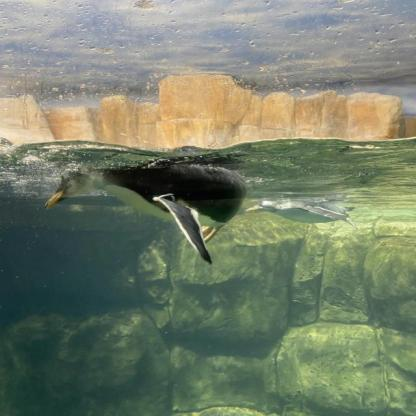penguin: (46, 150, 250, 238), (248, 196, 360, 225)
